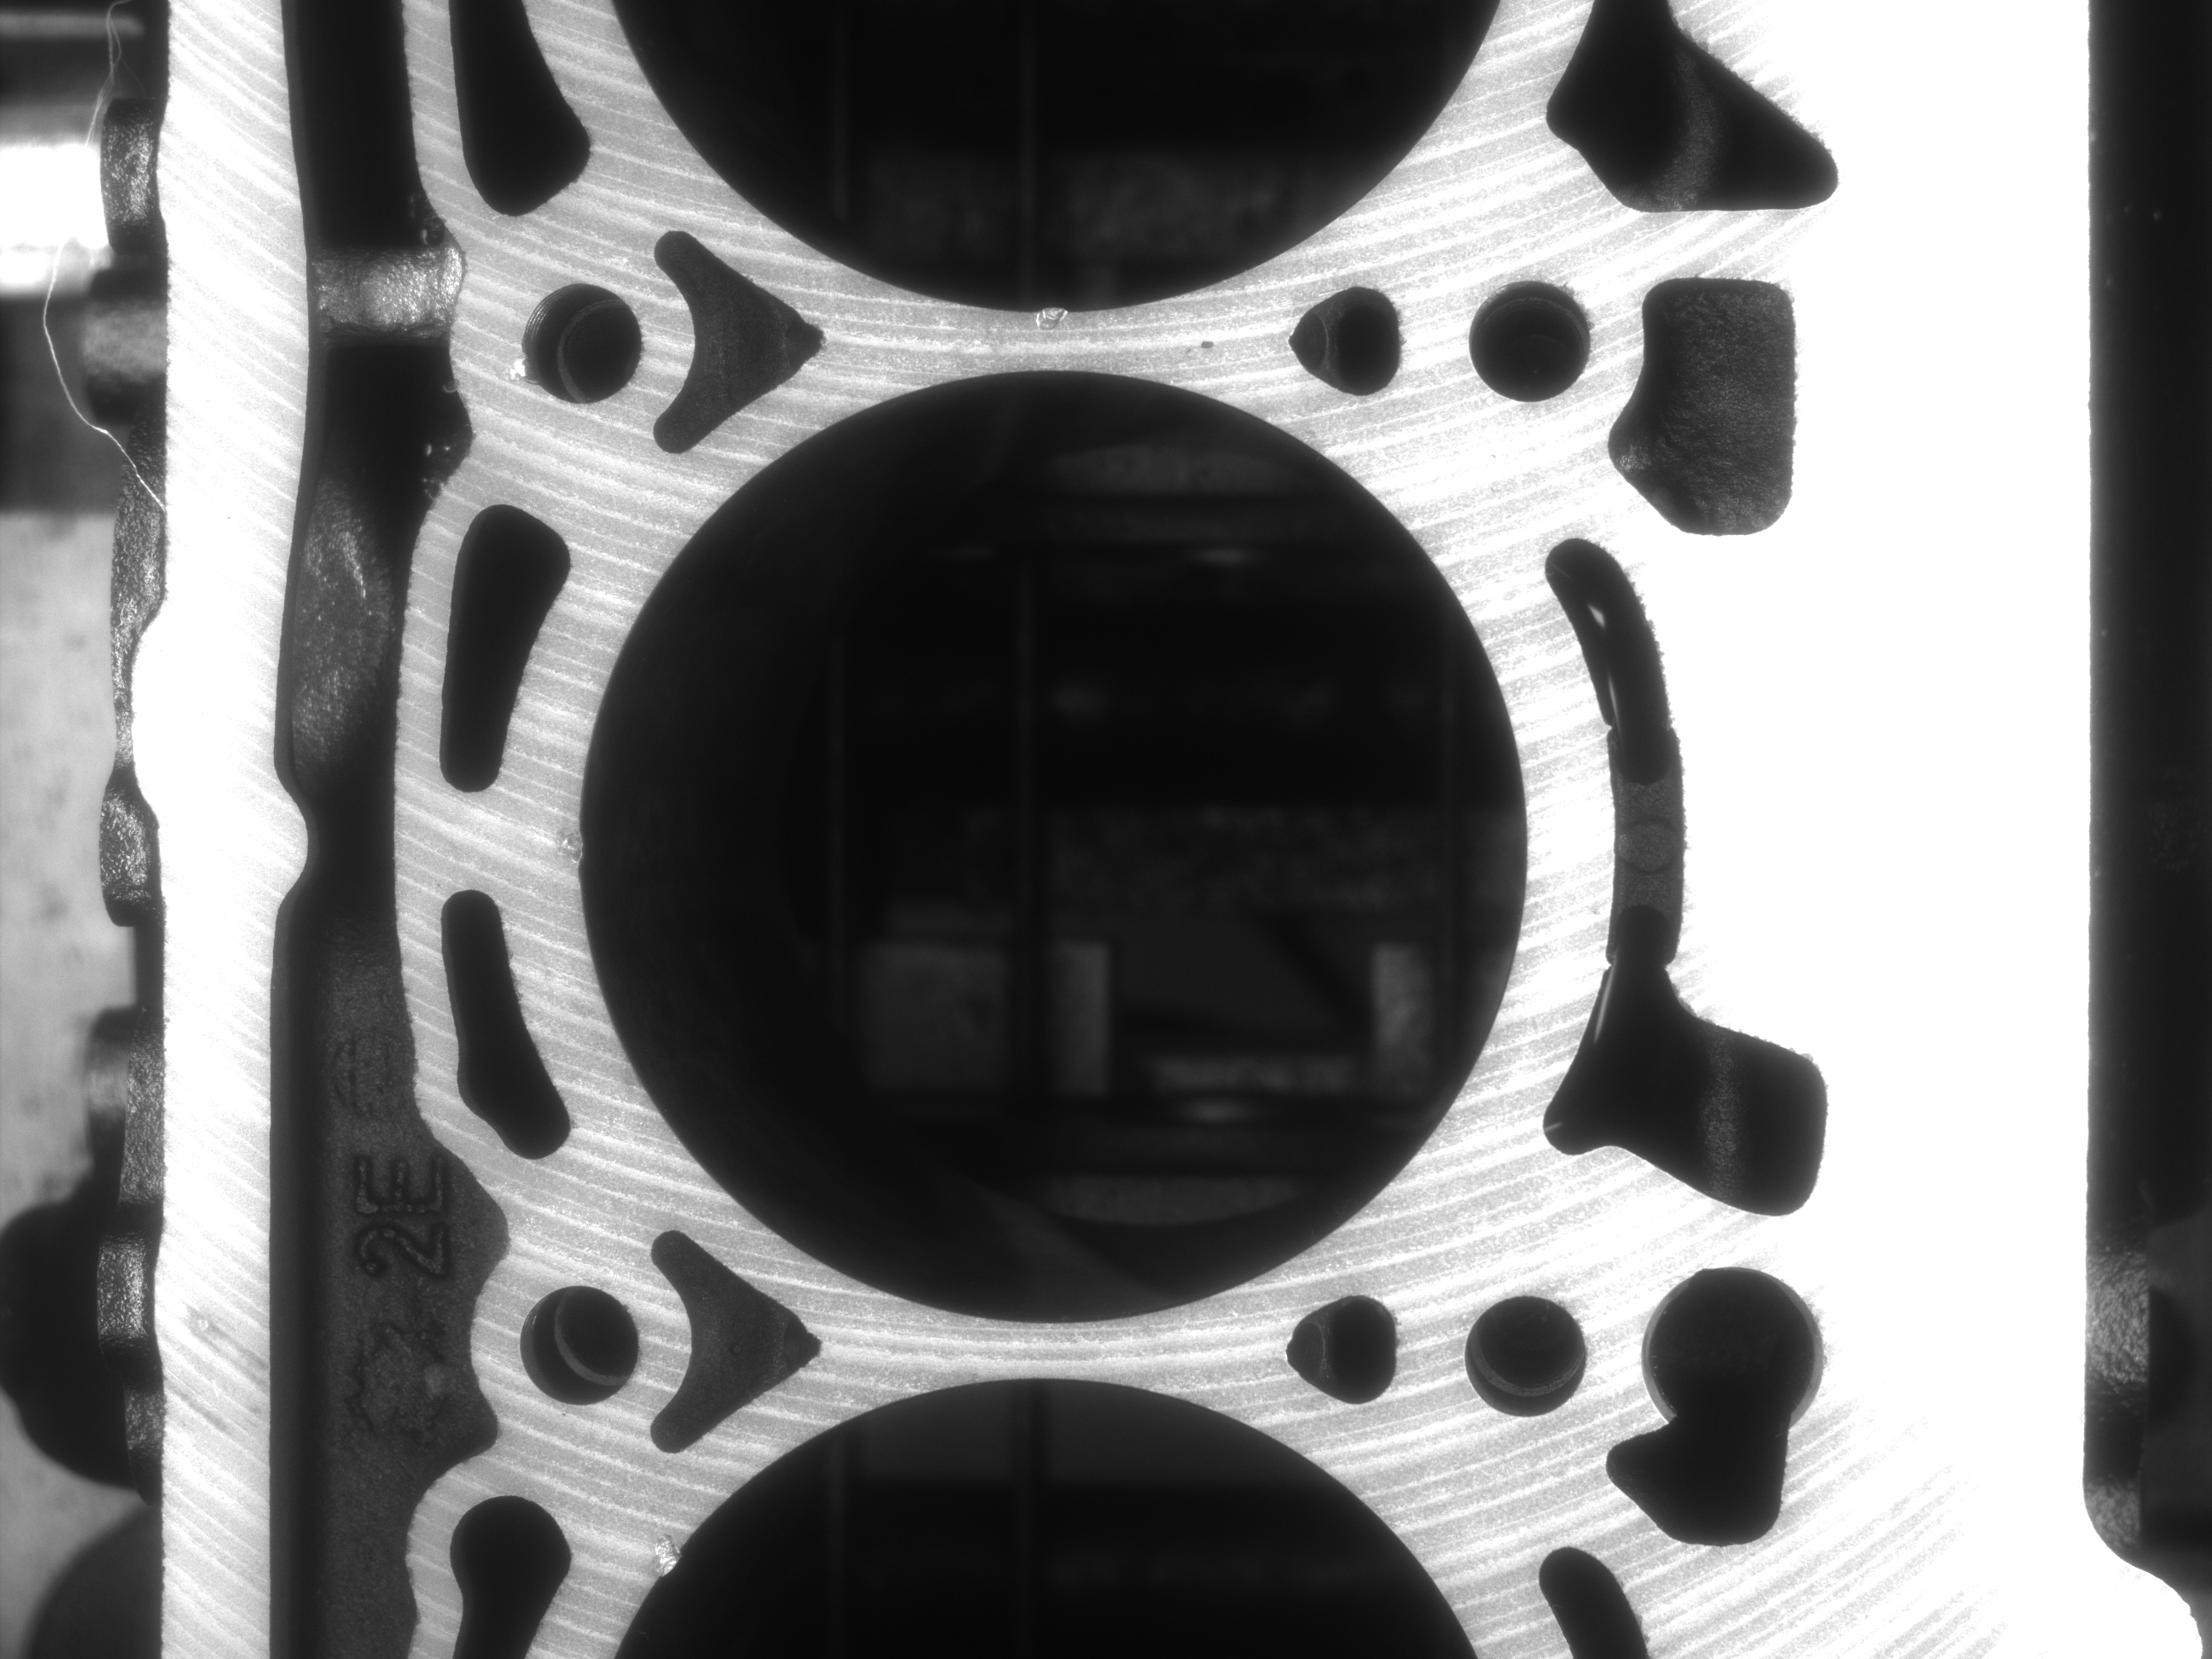sandhole: (644, 1525, 686, 1579)
shrinkage: (493, 354, 533, 380), (1035, 303, 1068, 326)
